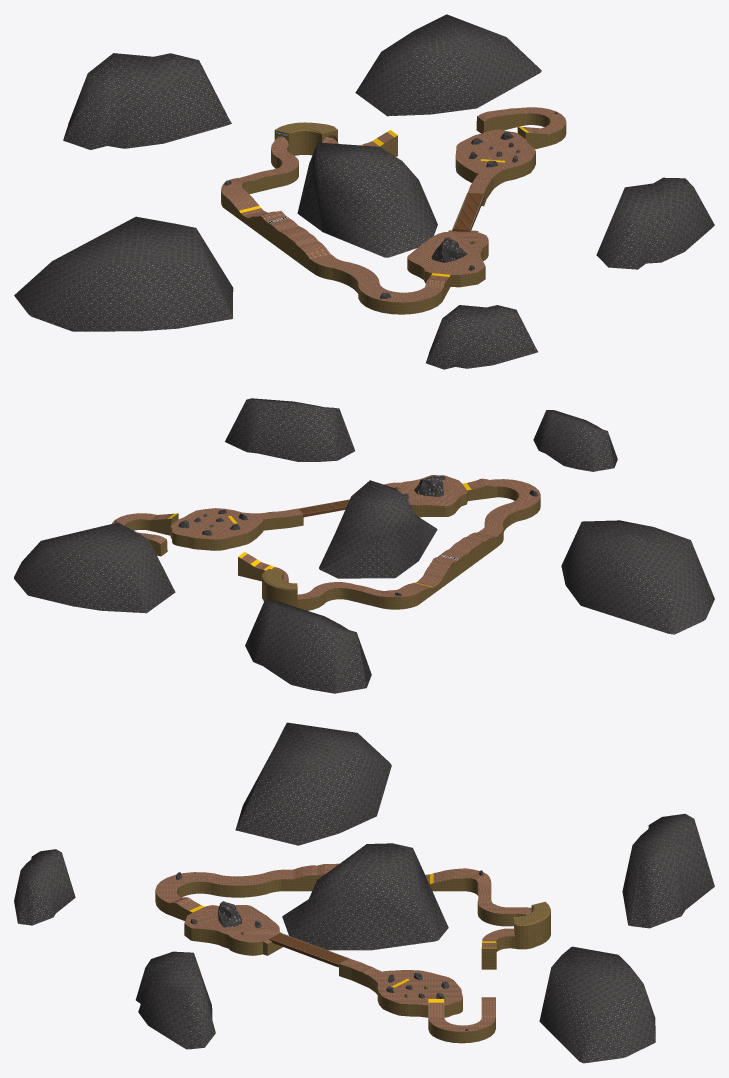
3 views of the same model, one above another, from view 1: azimuth 30°, elevation 25°; view 2: azimuth 150°, elevation 25°; view 3: azimuth 270°, elevation 25° (orthographic). The views are drawn at different scales.
Parts seen in each view (by area): view 1: rocky_track_Main-Brick_Pavers_Modular4.001, rocky_track_Main-Groundcover_Sand_Smooth.001, rocky_track_Main-Brick_Pavers_Modular2.001, rocky_track_Main-Groundcover_Gravel_Indian.001; view 2: rocky_track_Main-Brick_Pavers_Modular4.001, rocky_track_Main-Brick_Pavers_Modular2.001, rocky_track_Main-Groundcover_Sand_Smooth.001, rocky_track_c_rock_5-Brick_Pavers_Modular4.009; view 3: rocky_track_Main-Brick_Pavers_Modular4.001, rocky_track_Main-Groundcover_Sand_Smooth.001, rocky_track_Main-Brick_Pavers_Modular2.001, rocky_track_Main-Groundcover_Gravel_Indian.001.
Part boxes in pixels (x1,y1,x2,y2): rocky_track_Main-Brick_Pavers_Modular4.001: [14, 14, 714, 369]; rocky_track_Main-Groundcover_Sand_Smooth.001: [221, 107, 566, 302]; rocky_track_Main-Brick_Pavers_Modular2.001: [221, 113, 566, 314]; rocky_track_Main-Groundcover_Gravel_Indian.001: [452, 193, 484, 230]; rocky_track_Main-Brick_Pavers_Modular4.001: [14, 398, 714, 693]; rocky_track_Main-Brick_Pavers_Modular2.001: [124, 485, 540, 610]; rocky_track_Main-Groundcover_Sand_Smooth.001: [112, 475, 540, 599]; rocky_track_c_rock_5-Brick_Pavers_Modular4.009: [414, 475, 443, 496]; rocky_track_Main-Brick_Pavers_Modular4.001: [14, 722, 714, 1063]; rocky_track_Main-Groundcover_Sand_Smooth.001: [155, 863, 531, 1031]; rocky_track_Main-Brick_Pavers_Modular2.001: [155, 874, 550, 1043]; rocky_track_Main-Groundcover_Gravel_Indian.001: [269, 932, 348, 964].
Size of what is drawn, in the model's own units: 168040 by 17361 by 163421.
Materials: 16 (16 with a texture image).
